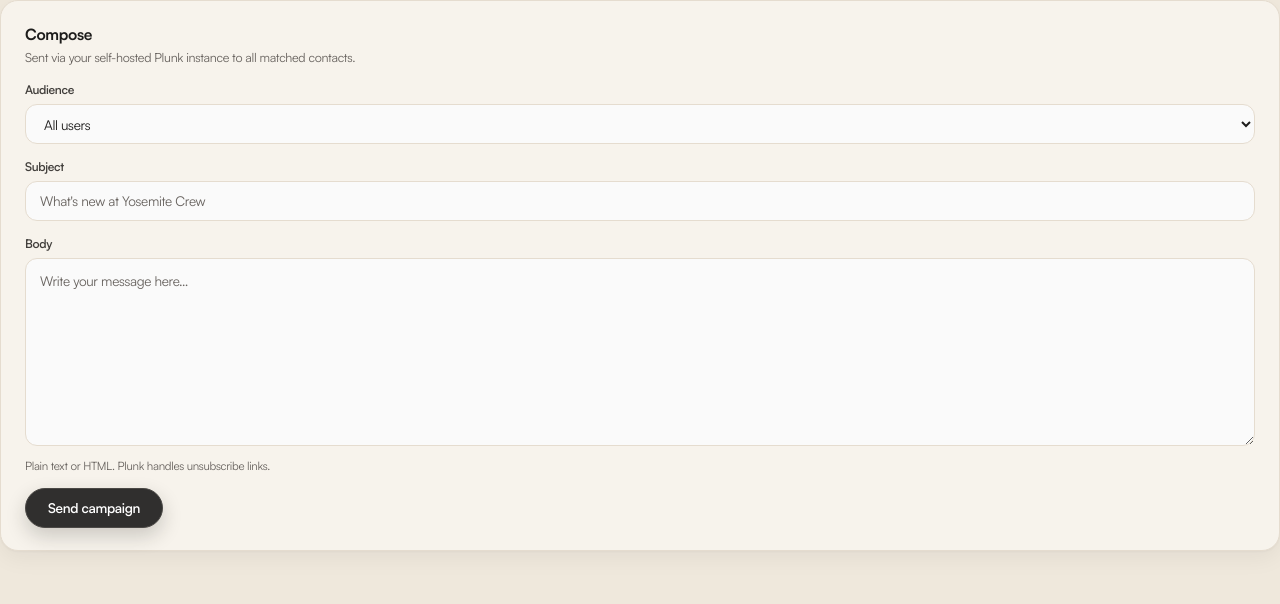
Test: ComposeForm › shows the error returned by the action
Select "Super-admins only" in the dropdown labelled "Audience" at (640, 124), box [25, 104, 1255, 144]
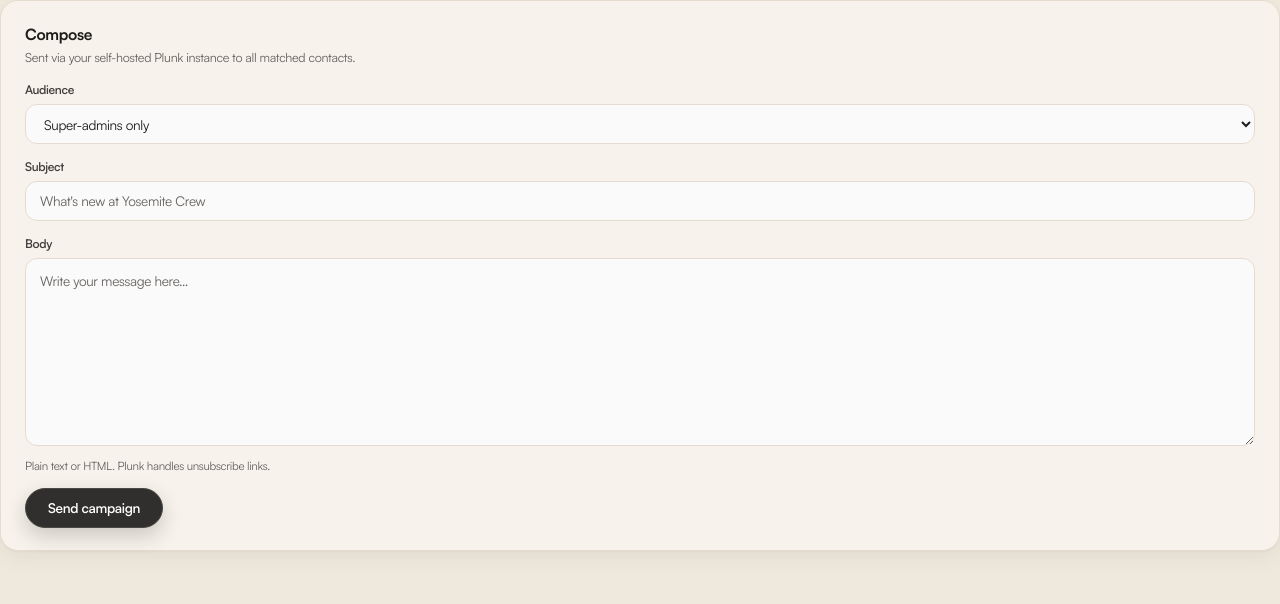
Type "Big news" into the field labelled "Subject" at (640, 201), box [25, 181, 1255, 221]
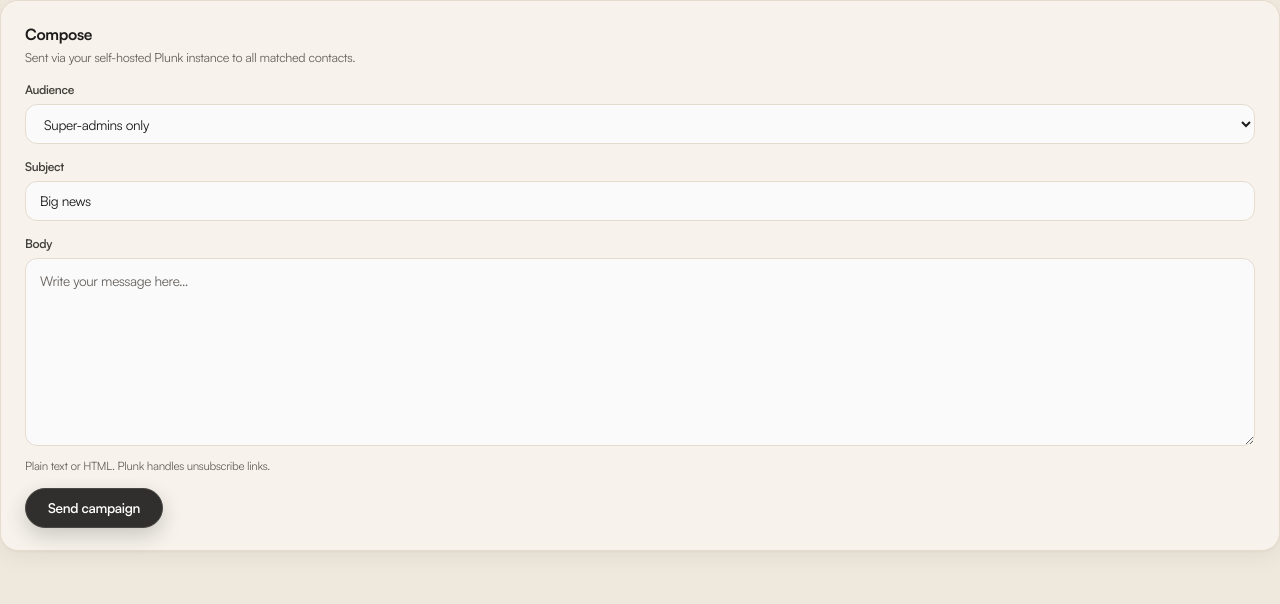
Type "A body long enough to retry." into the text box labelled "Body" at (640, 352), box [25, 258, 1255, 446]
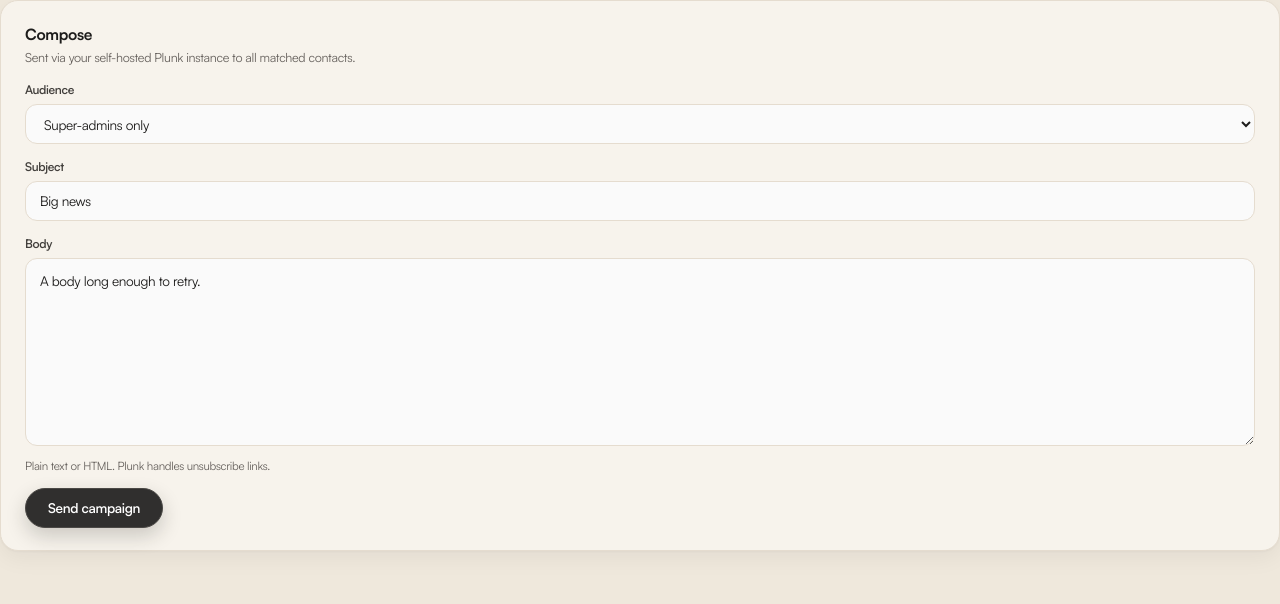
Submit the form named "Send campaign"
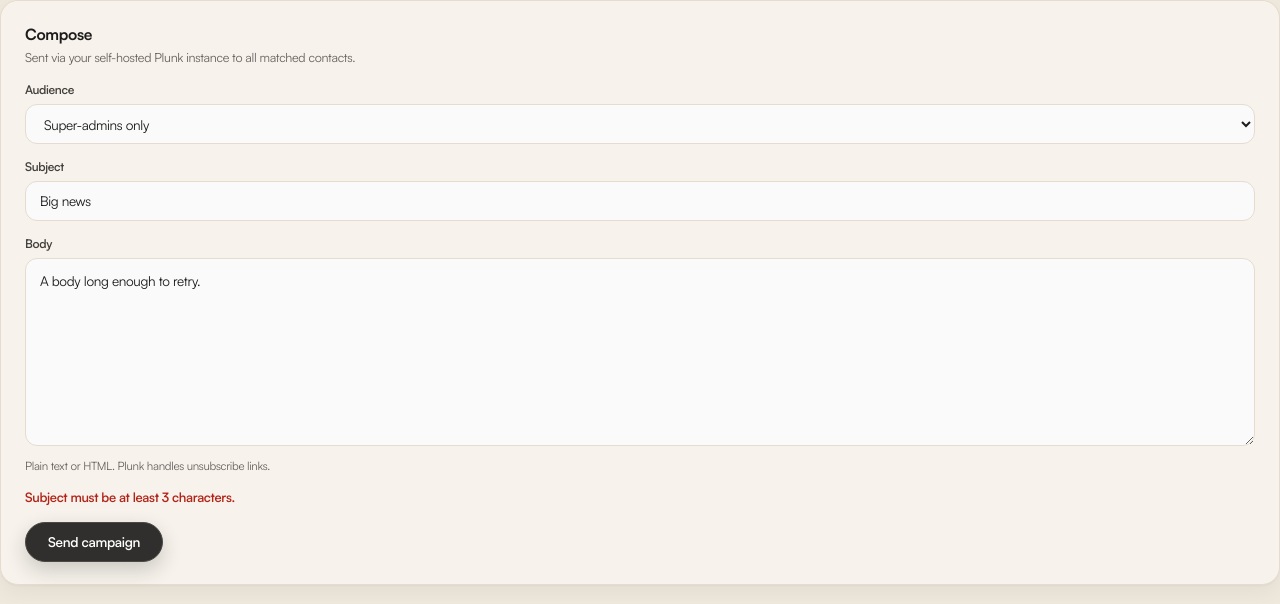
Result: the message reads "Subject must be at least 3 characters." at [25, 489, 235, 505]
